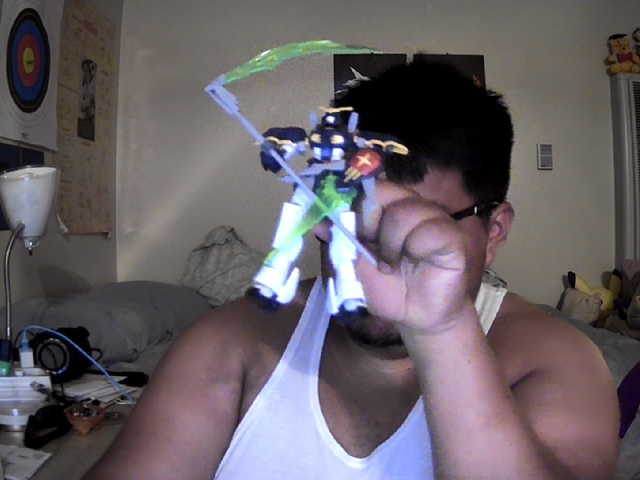Deathsythe: (204, 38, 408, 319)
